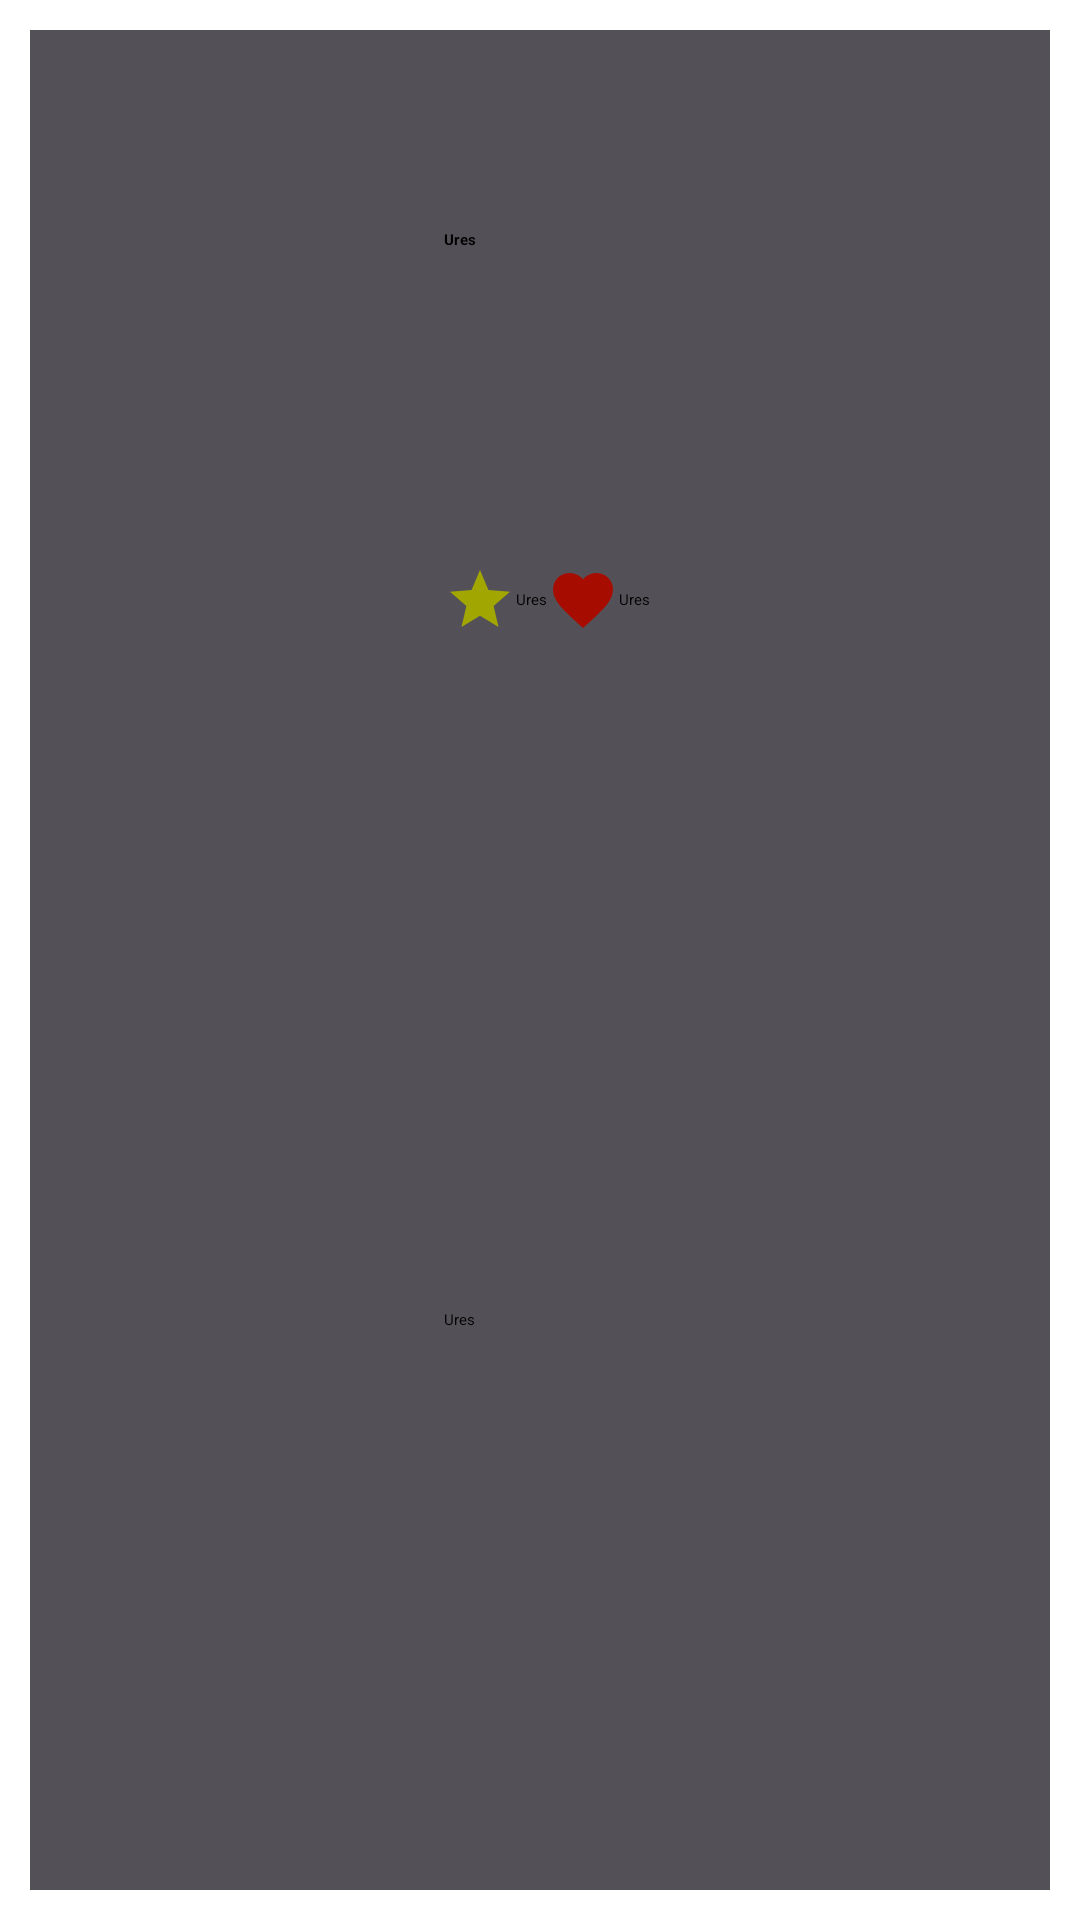

Named icons in this screenshot (1080×1920) and their bounding boxes, (x1, y1, x2, y2):
love: (553, 573, 613, 628)
star: (451, 571, 509, 627)
